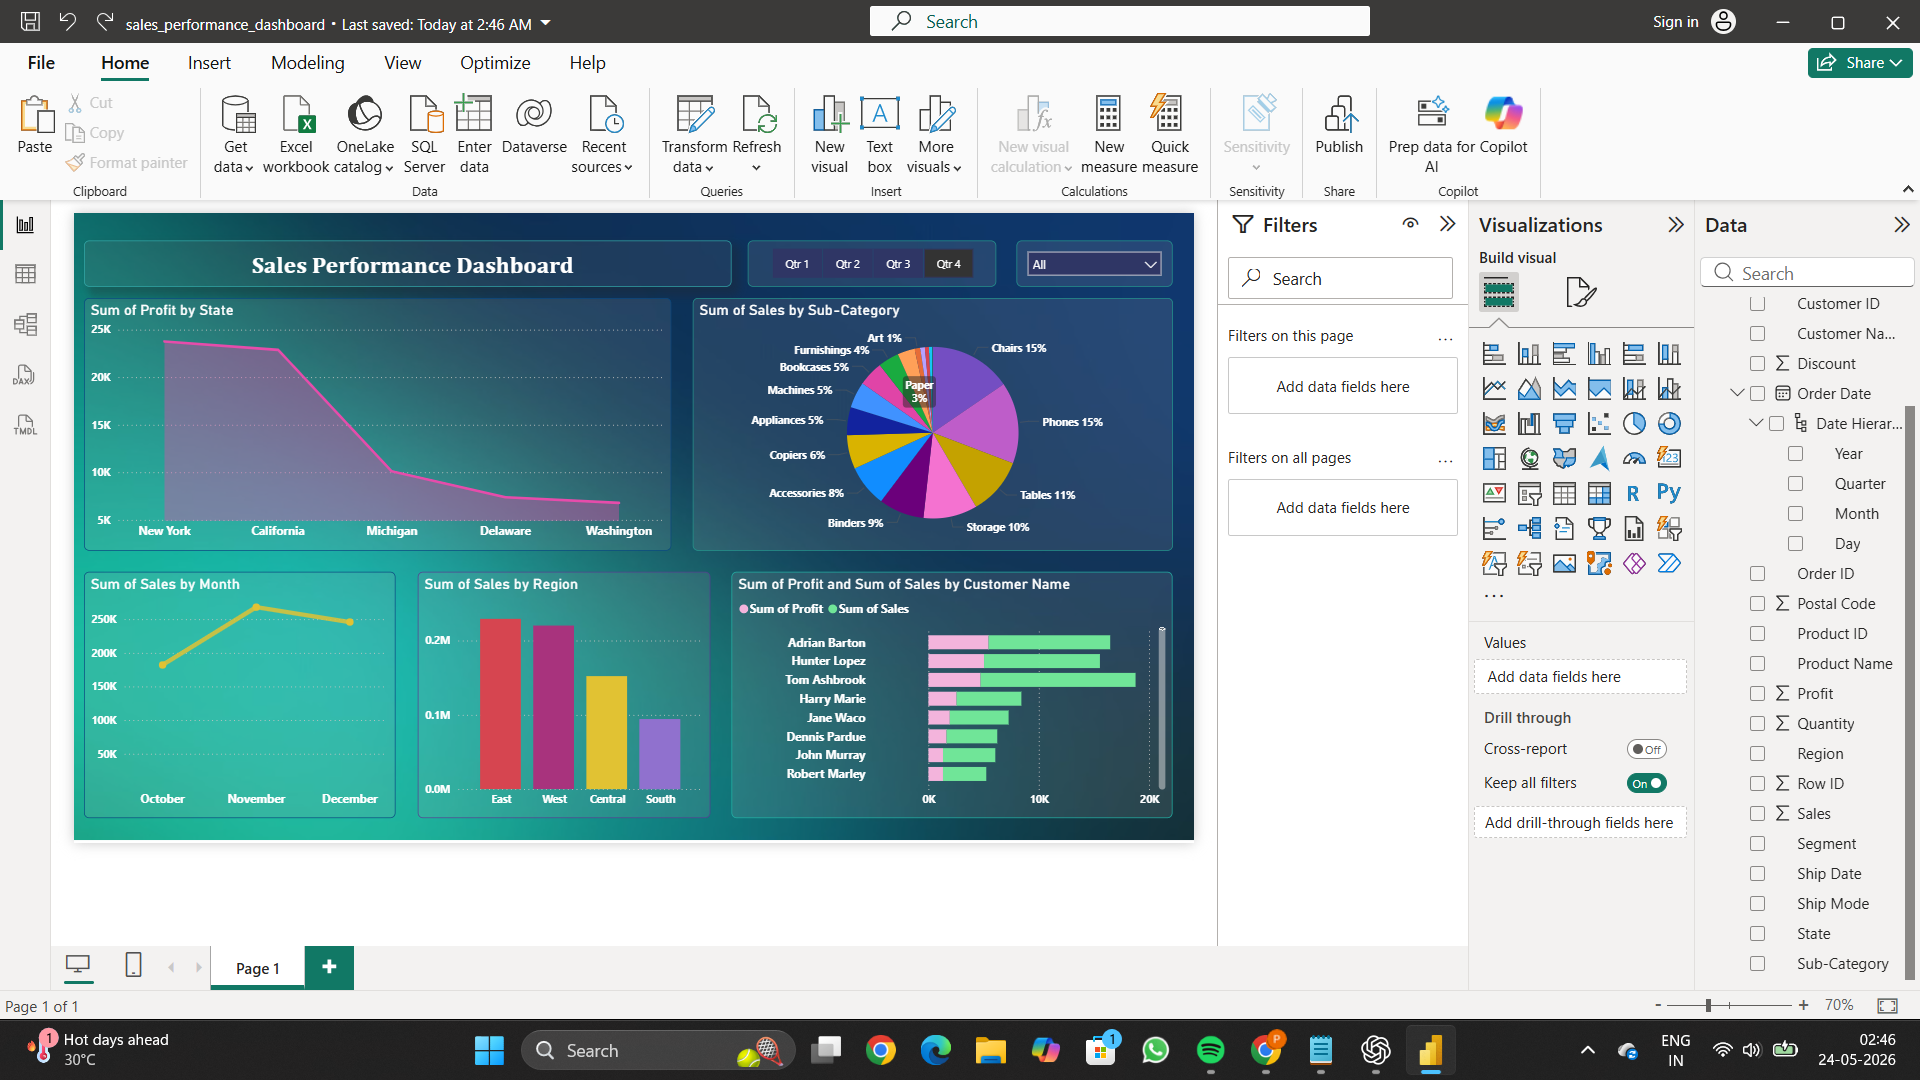

This screenshot's page, from the dashboard's own definition file:
{"tool":"powerbi","page":{"name":"Page 1","canvas":[1280,720],"ordinal":0},"visuals":[{"type":"textbox","box":[11.4,31.4,740,52.9],"z":0},{"type":"barChart","fields":{"Y":["Sum(sales_performance superstore_sales.Profit)","Sum(sales_performance superstore_sales.Sales)"],"Category":["sales_performance superstore_sales.Customer Name"]},"box":[751.4,410,504.3,281.4],"z":1000},{"type":"pieChart","fields":{"Category":["sales_performance superstore_sales.Sub-Category"],"Y":["Sum(sales_performance superstore_sales.Sales)"]},"box":[707.1,97.1,548.6,288.6],"z":2000},{"type":"lineChart","fields":{"Y":["Sum(sales_performance superstore_sales.Sales)"],"Category":["sales_performance superstore_sales.Order Date.Variation.Date Hierarchy.Month"]},"box":[11.4,410,355.7,281.4],"z":3000},{"type":"stackedAreaChart","fields":{"Category":["sales_performance superstore_sales.State"],"Y":["Sum(sales_performance superstore_sales.Profit)"]},"box":[11.4,97.1,671.4,288.6],"z":4000},{"type":"columnChart","fields":{"Category":["sales_performance superstore_sales.Region"],"Y":["Sum(sales_performance superstore_sales.Sales)"]},"box":[392.9,410,334.3,281.4],"z":5000},{"type":"slicer","fields":{"Values":["sales_performance superstore_sales.Order Date.Variation.Date Hierarchy.Quarter"]},"box":[770,31.4,284.3,52.9],"z":6000},{"type":"slicer","fields":{"Values":["sales_performance superstore_sales.Region"]},"box":[1077.1,31.4,178.6,52.9],"z":7000}]}

Visuals, with their boxes in screenshot pixels (x1, y1, x2, y2):
textbox: x1=67, y1=36, x2=1162, y2=115
barChart - Sum(sales_performance superstore_sales.Profit) x Sum(sales_performance superstore_sales.Sales): x1=1162, y1=596, x2=1908, y2=1013
pieChart - sales_performance superstore_sales.Sub-Category x Sum(sales_performance superstore_sales.Sales): x1=1096, y1=134, x2=1908, y2=561
lineChart - Sum(sales_performance superstore_sales.Sales) x sales_performance superstore_sales.Order Date.Variation.Date Hierarchy.Month: x1=67, y1=596, x2=593, y2=1013
stackedAreaChart - sales_performance superstore_sales.State x Sum(sales_performance superstore_sales.Profit): x1=67, y1=134, x2=1060, y2=561
columnChart - sales_performance superstore_sales.Region x Sum(sales_performance superstore_sales.Sales): x1=631, y1=596, x2=1126, y2=1013
slicer - sales_performance superstore_sales.Order Date.Variation.Date Hierarchy.Quarter: x1=1189, y1=36, x2=1610, y2=115
slicer - sales_performance superstore_sales.Region: x1=1643, y1=36, x2=1908, y2=115
